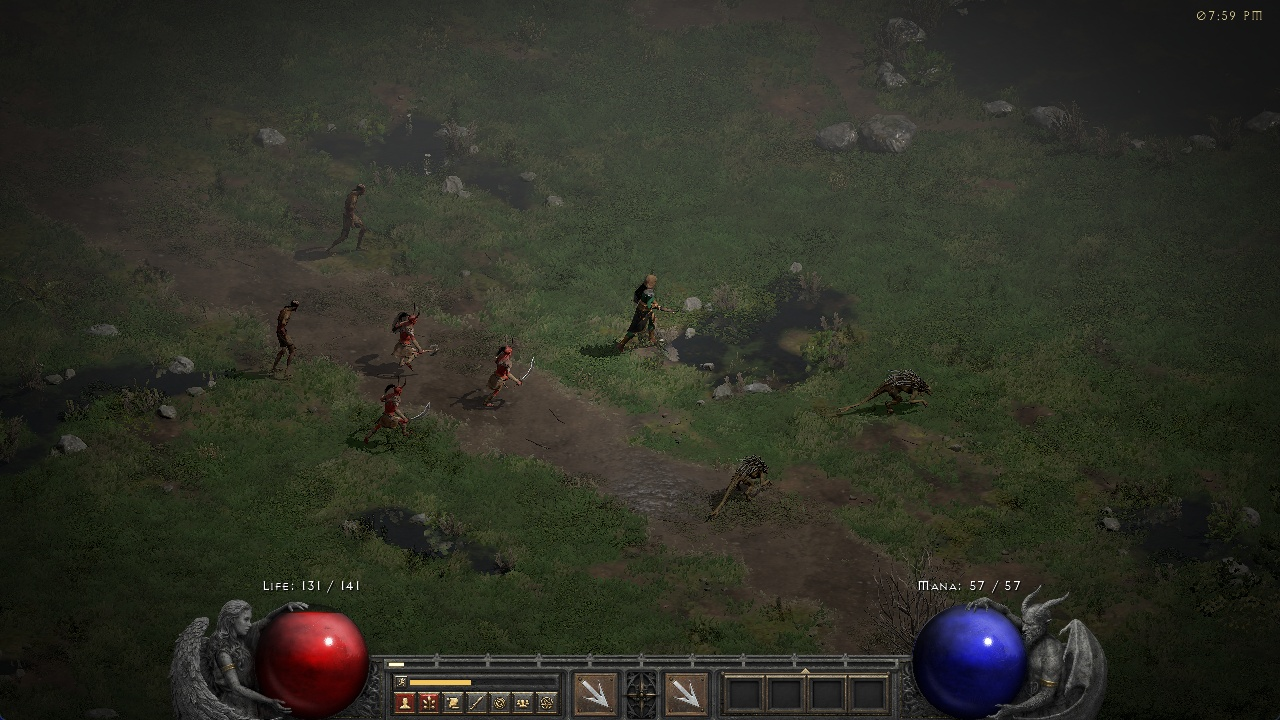fallen: (369, 375, 431, 441), (484, 339, 535, 408), (388, 305, 438, 369)
